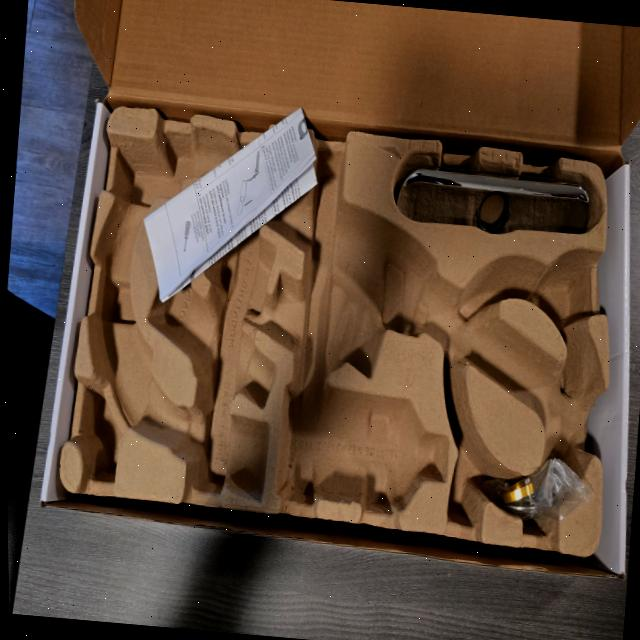1m: (92, 136, 603, 502)
2m: (147, 213, 273, 406)
3m: (276, 388, 447, 511)
4: (394, 163, 589, 234)
5m: (533, 266, 581, 325)
6: (494, 453, 596, 539)
7m: (448, 403, 497, 529)
8: (142, 107, 317, 305)
